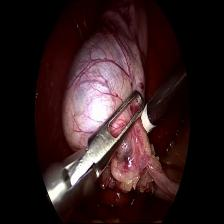Grasper: (38, 82, 150, 221)
